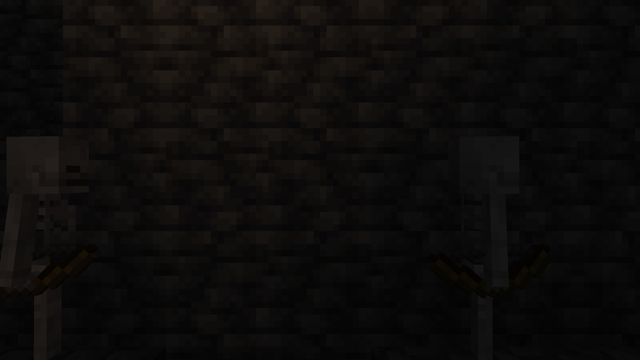squelettes: (443, 136, 529, 356), (10, 136, 93, 356)
